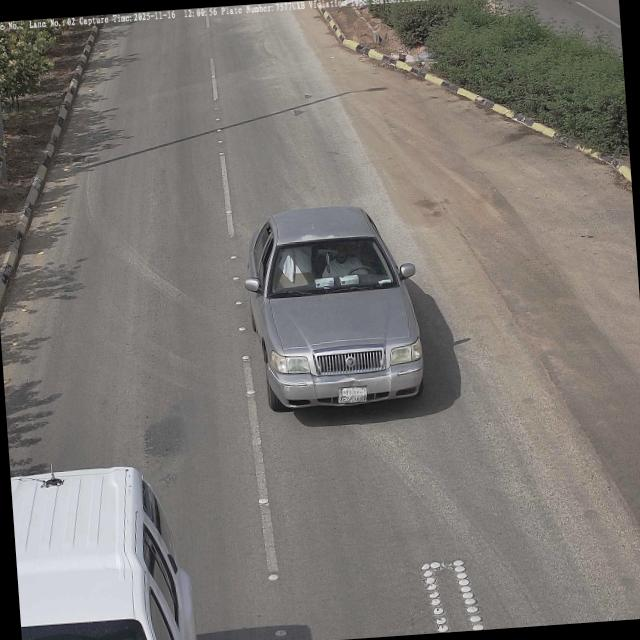person_without_seatbelt: (324, 240, 367, 279)
